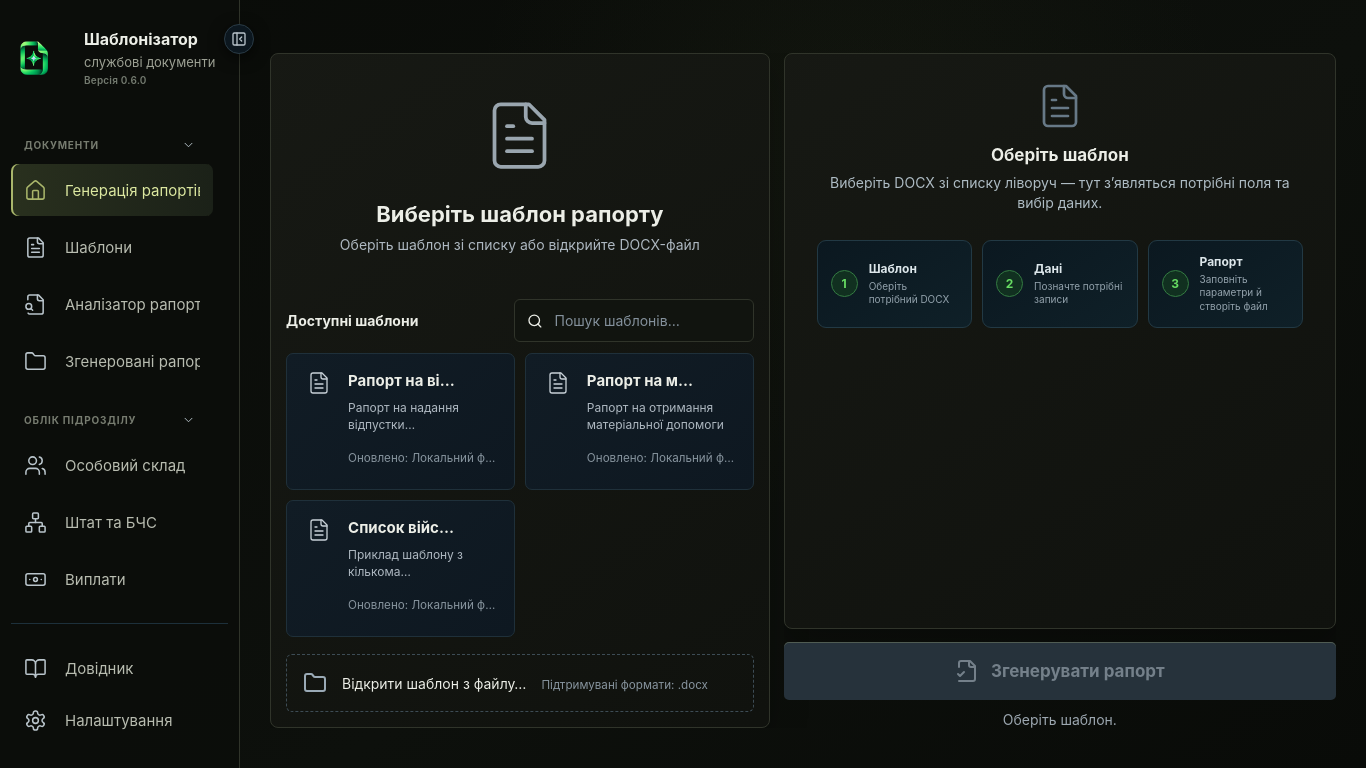
navigation and report generation › filters real templates by text
Click the button "Шаблони".
click(112, 247)  # box [11,221,213,273]
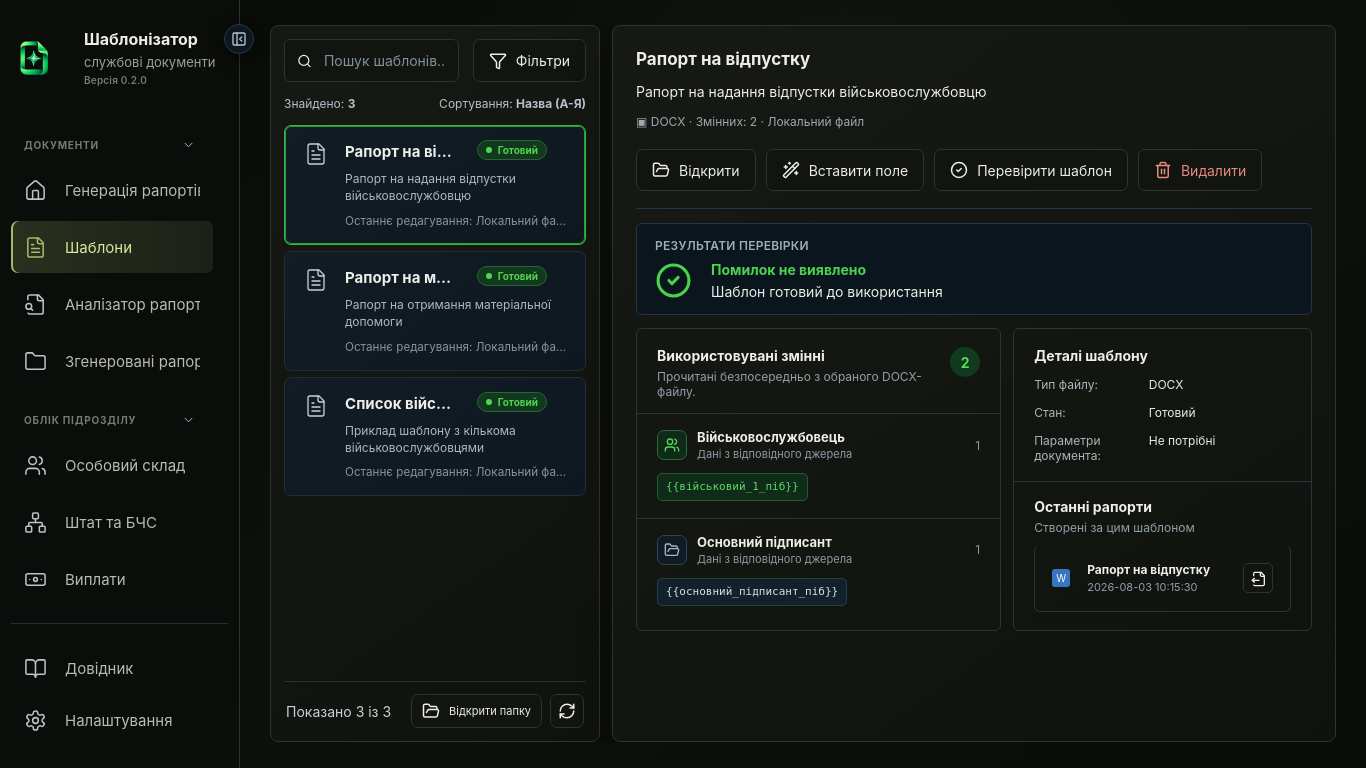
Type "матеріальну" into the field labelled "Пошук шаблонів…".
click(384, 60); type("матеріальну")  # box [322,51,446,70]
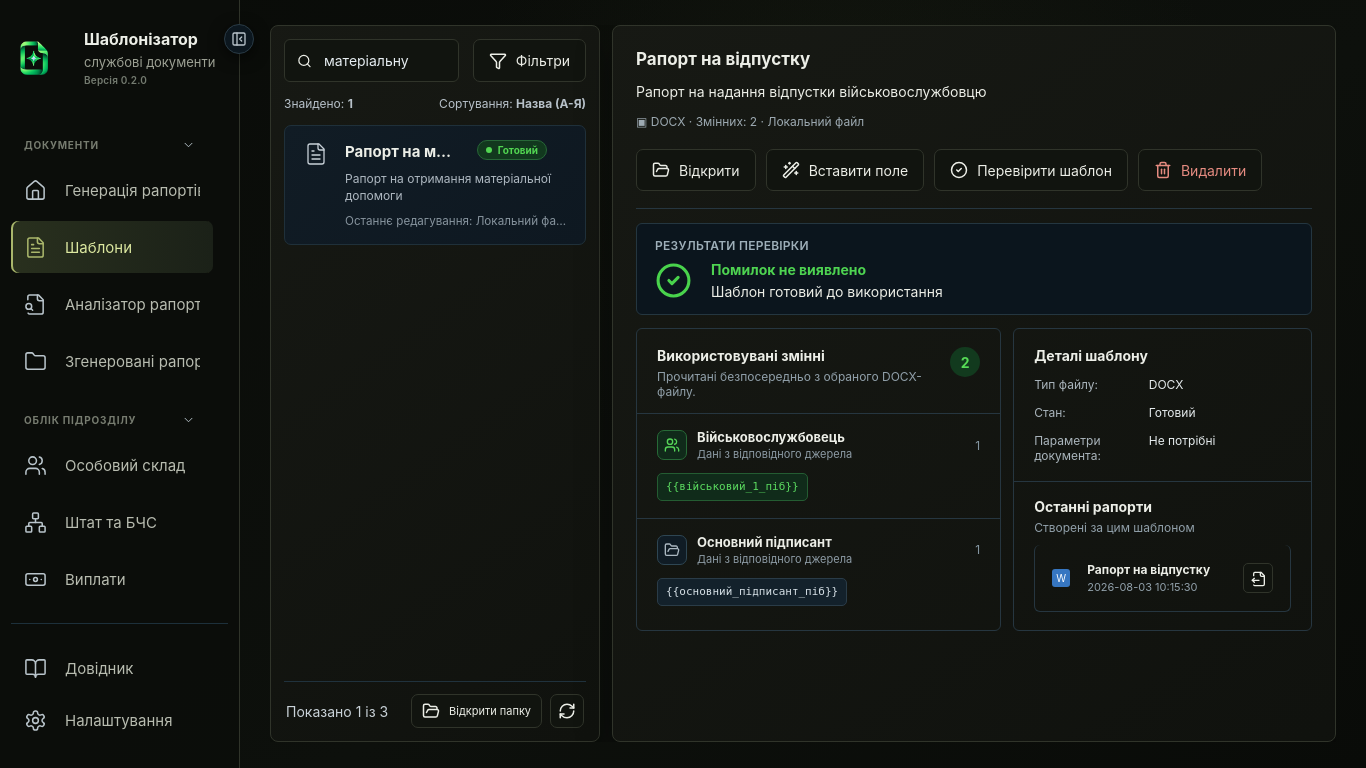
Check: the text "Показано 1 із 3" is shown, box [286,702,388,720]
